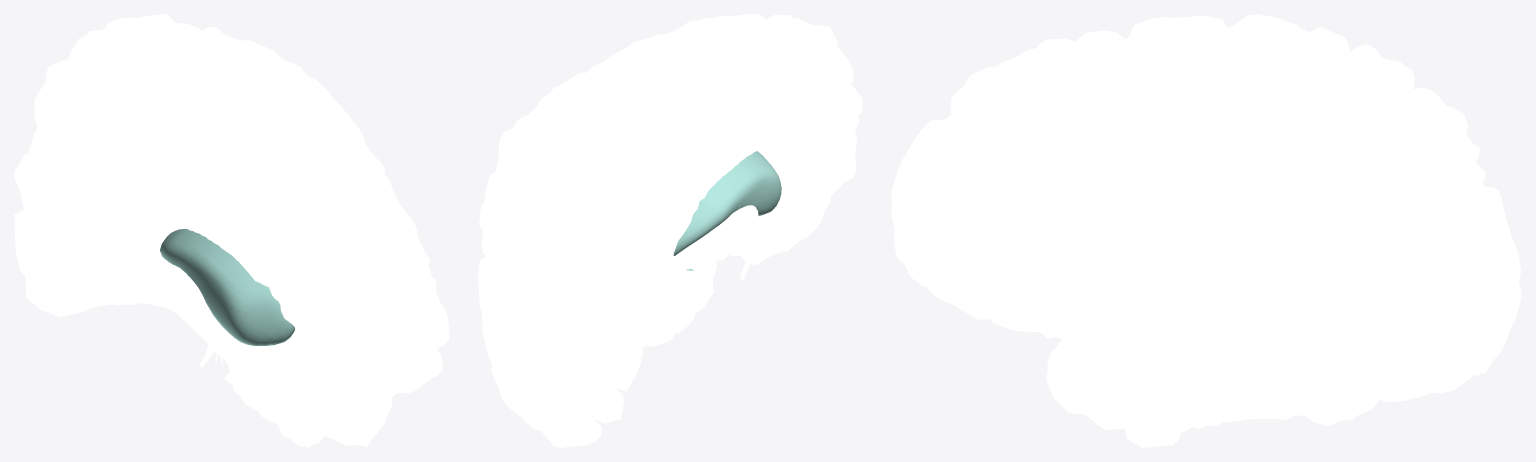
The model's file is left-cerebral-hemisphere.glb.
3 views of the same model, side by side, from view 1: azimuth 30°, elevation 25°; view 2: azimuth 150°, elevation 25°; view 3: azimuth 270°, elevation 25° (orthographic). The views are drawn at different scales.
Parts seen in each view (by area): view 1: Superior frontal gyrus.l, Middle frontal gyrus.l, Precuneus.l, Lingual gyrus.l, Lateral ventricle.l, Straight gyrus (Gyrus rectus).l, Paracentral gyrus and sulcus*.l, Orbital gyri (Frontomarginal gyrus and sulcus*).l, Precentral gyrus.l, Cingulate gyrus and sulcus (Middle anterior part).l, White matter of telencephalon.l, Cingulate gyrus and sulcus (Posterior dorsal part).l (+16 smaller); view 2: Superior frontal gyrus.l, Precuneus.l, Angular gyrus.l, Superior parietal lobule.l, Paracentral gyrus and sulcus*.l, Cuneus.l, Lingual gyrus.l, Lateral ventricle.l, Occipital pole.l, Superior occipital gyri.l, White matter of telencephalon.l, Straight gyrus (Gyrus rectus).l (+14 smaller); view 3: Middle frontal gyrus.l, Precentral gyrus.l, Middle temporal gyrus.l, Superior frontal gyrus.l, Postcentral gyrus.l, Supramarginal gyrus.l, Superior temporal gyrus (Lateral part).l, Angular gyrus.l, Inferior temporal gyrus.l, Superior parietal lobule.l, Lateral occipital gyrus (Middle occipital gyrus*).l, Triangular part of inferior frontal gyrus.l (+17 smaller).
Part boxes in pixels (<box>): Superior frontal gyrus.l: <box>131,56,386,390</box>; Middle frontal gyrus.l: <box>262,71,449,346</box>; Precuneus.l: <box>34,18,133,252</box>; Lingual gyrus.l: <box>14,207,173,316</box>; Lateral ventricle.l: <box>160,229,294,345</box>; Straight gyrus (Gyrus rectus).l: <box>224,363,363,431</box>; Paracentral gyrus and sulcus*.l: <box>103,14,193,113</box>; Orbital gyri (Frontomarginal gyrus and sulcus*).l: <box>345,328,442,414</box>; Precentral gyrus.l: <box>189,39,398,201</box>; Cingulate gyrus and sulcus (Middle anterior part).l: <box>185,163,268,283</box>; White matter of telencephalon.l: <box>131,199,301,389</box>; Cingulate gyrus and sulcus (Posterior dorsal part).l: <box>105,125,158,223</box>; Superior frontal gyrus.l: <box>672,14,862,169</box>; Precuneus.l: <box>577,106,682,313</box>; Angular gyrus.l: <box>481,125,582,288</box>; Superior parietal lobule.l: <box>545,106,627,264</box>; Paracentral gyrus and sulcus*.l: <box>598,47,699,151</box>; Cuneus.l: <box>532,282,643,386</box>; Lingual gyrus.l: <box>561,325,651,423</box>; Lateral ventricle.l: <box>673,151,781,270</box>; Occipital pole.l: <box>507,339,601,447</box>; Superior occipital gyri.l: <box>509,238,602,373</box>; White matter of telencephalon.l: <box>658,114,825,303</box>; Straight gyrus (Gyrus rectus).l: <box>739,131,856,265</box>; Middle frontal gyrus.l: <box>900,76,1217,290</box>; Precentral gyrus.l: <box>1098,24,1281,286</box>; Middle temporal gyrus.l: <box>1081,268,1431,418</box>; Superior frontal gyrus.l: <box>891,15,1227,201</box>; Postcentral gyrus.l: <box>1155,34,1331,267</box>; Supramarginal gyrus.l: <box>1212,137,1383,299</box>; Superior temporal gyrus (Lateral part).l: <box>1055,276,1340,385</box>; Angular gyrus.l: <box>1348,135,1493,298</box>; Inferior temporal gyrus.l: <box>1110,328,1421,447</box>; Superior parietal lobule.l: <box>1328,48,1480,164</box>; Lateral occipital gyrus (Middle occipital gyrus*).l: <box>1410,213,1498,365</box>; Triangular part of inferior frontal gyrus.l: <box>1010,194,1082,313</box>.
Bounding box in the file's own units: 0.0689 × 0.1178 × 0.1807.
